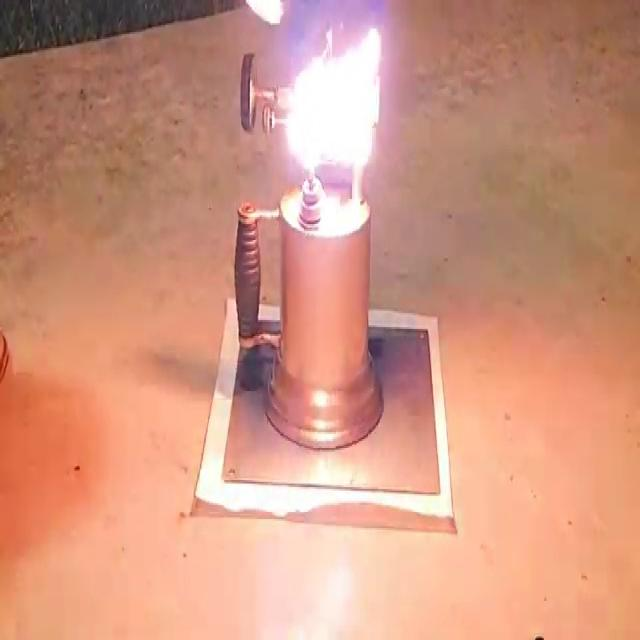fire: (257, 1, 391, 232)
